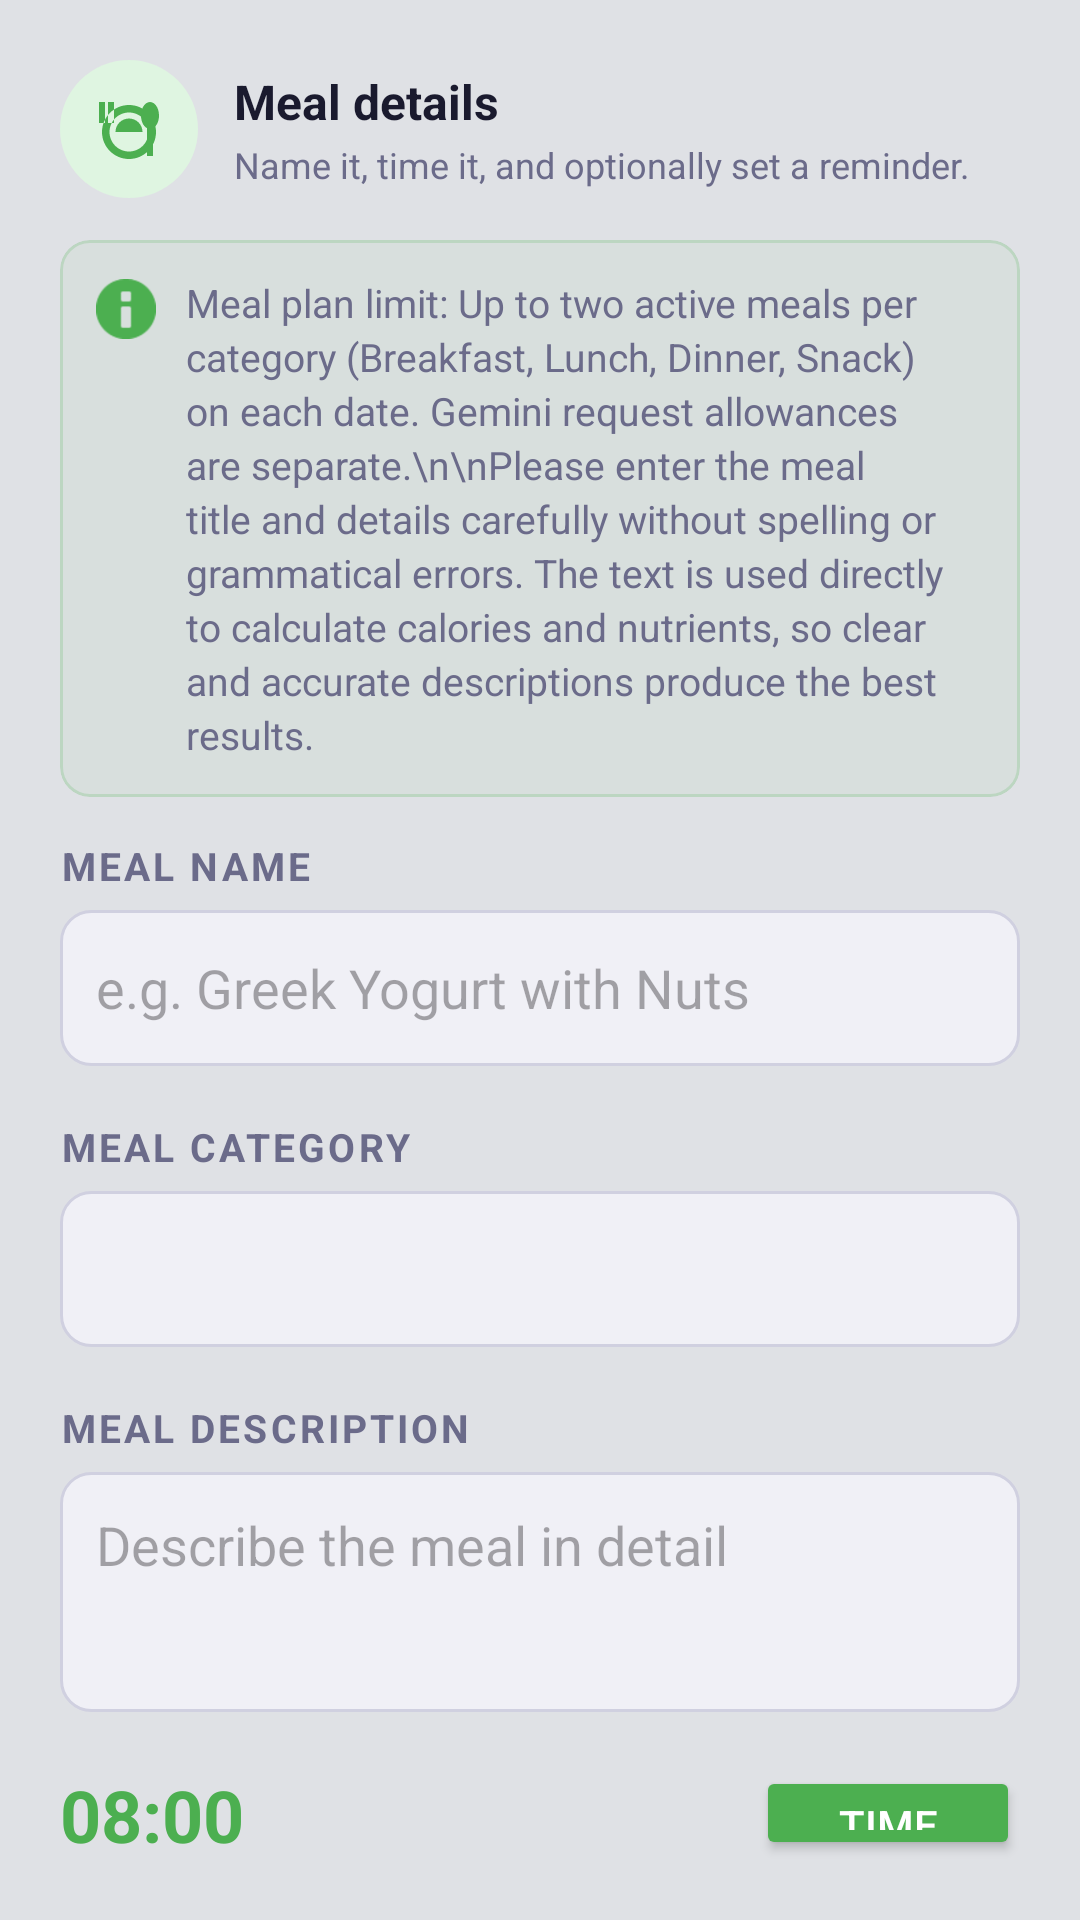

Icons on this 1080x1920 Android screen, each with the point to tap as point (x, y):
Notice: point (126, 309)
